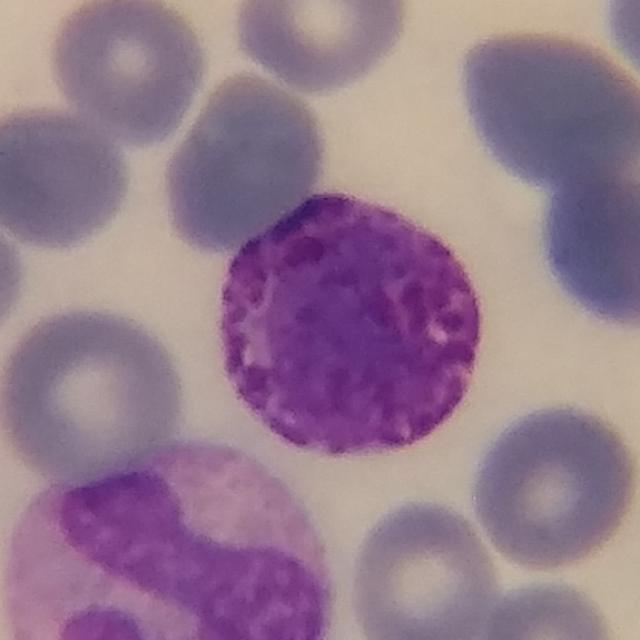baso: (218, 184, 487, 460)
